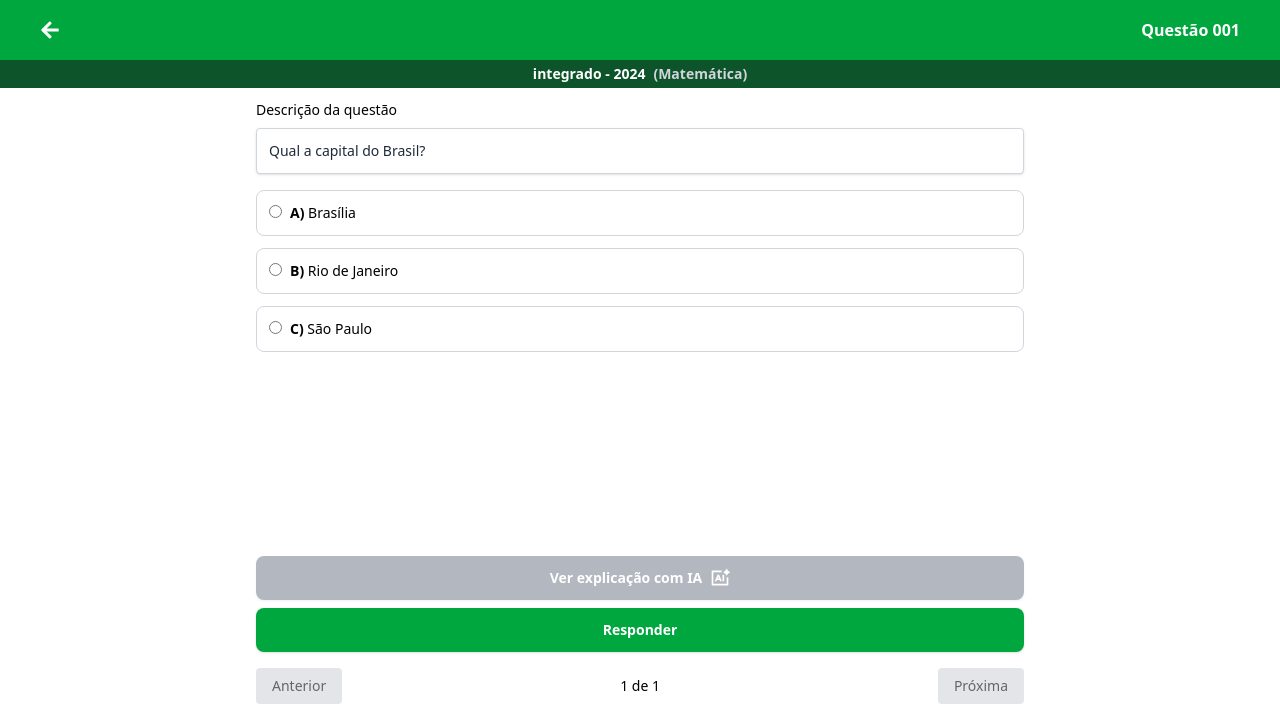
it: Resolver Content › Explicacao com IA (Gemini) › deve mostrar loading enquanto gera explicacao
What coordinates should you click on to do the following:
click the text "a) Brasília"
I would click on:
 (332, 212)
Its box is [256,190,1024,236].
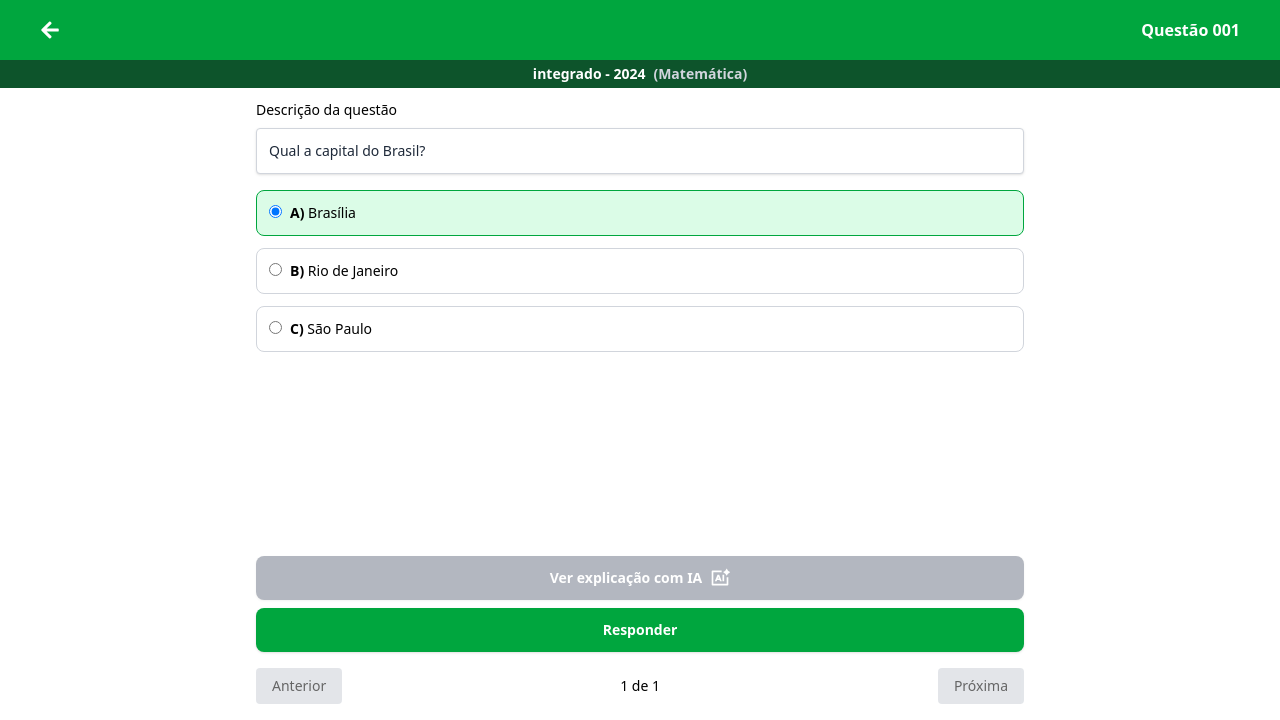
What coordinates should you click on to do the following:
click the button "Responder"
I would click on:
 (640, 630)
Its box is [256,608,1024,652].
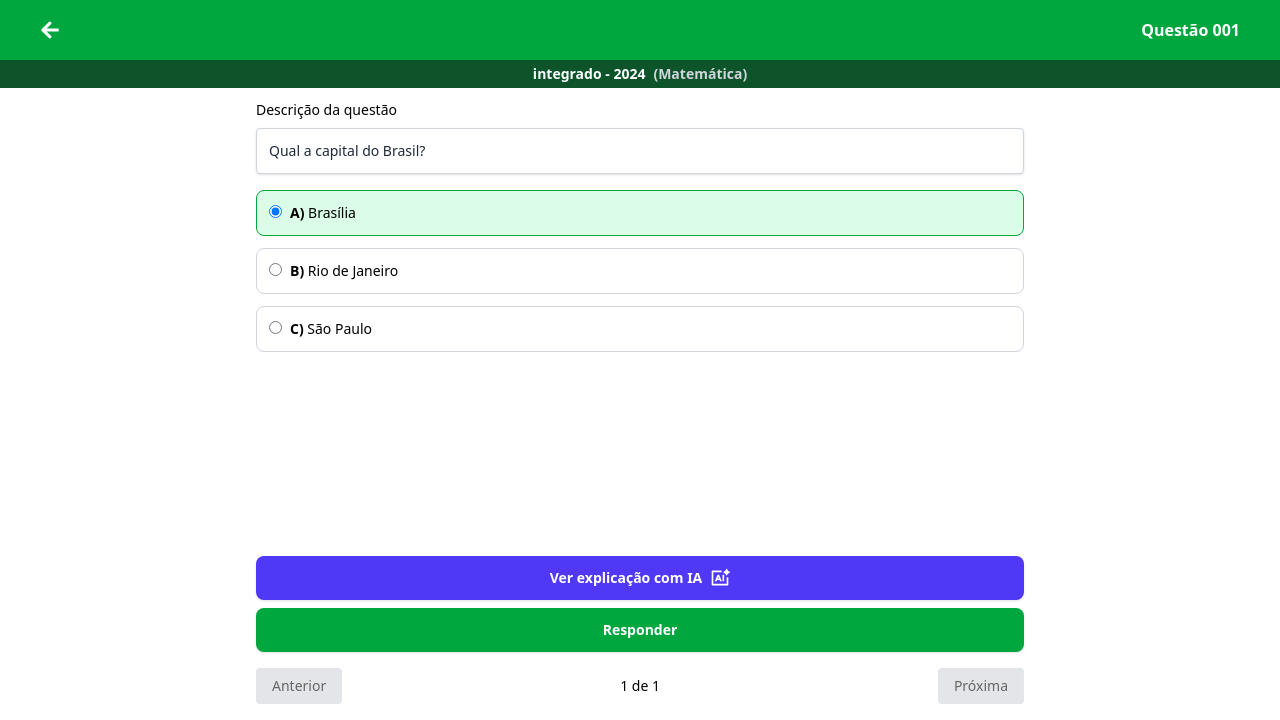
Now the button "Ver explicação com IA" is enabled
What coordinates should you click on to do the following:
click the button "Ver explicação com IA"
I would click on:
 (640, 578)
Its box is [256,556,1024,600].
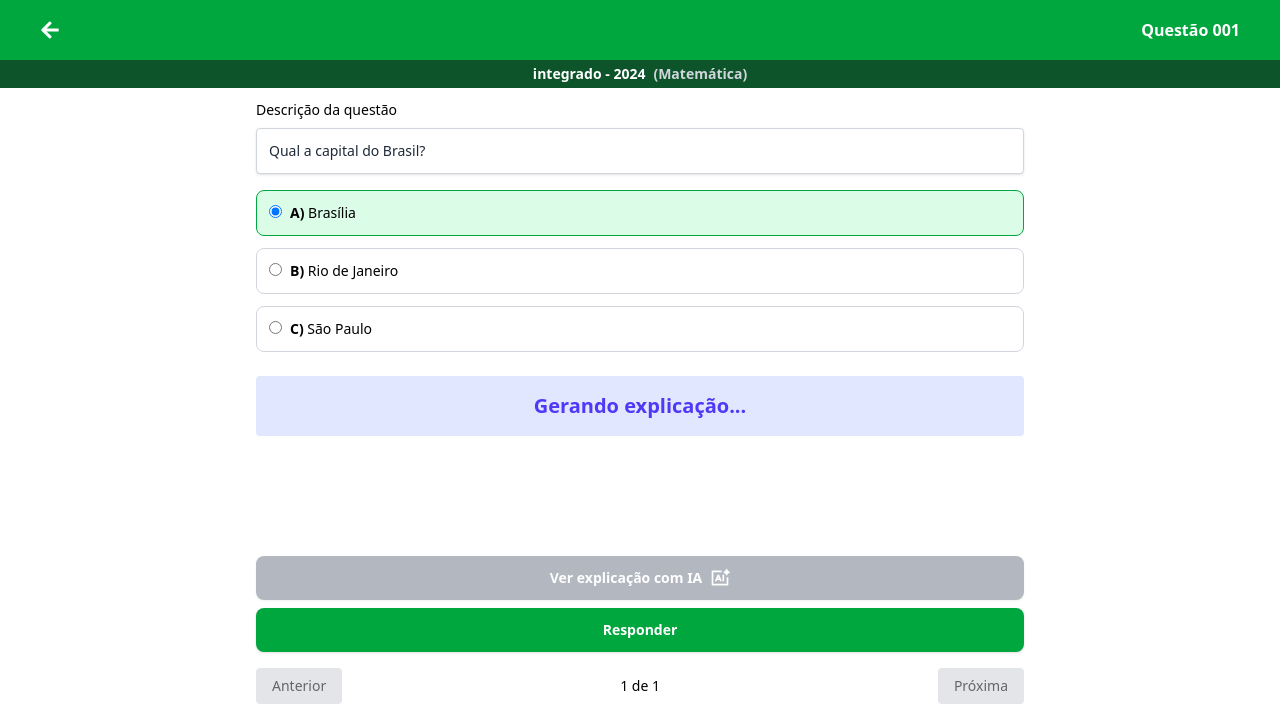
Now the heading "Gerando explicação..." is shown, box [534,392,746,419]
